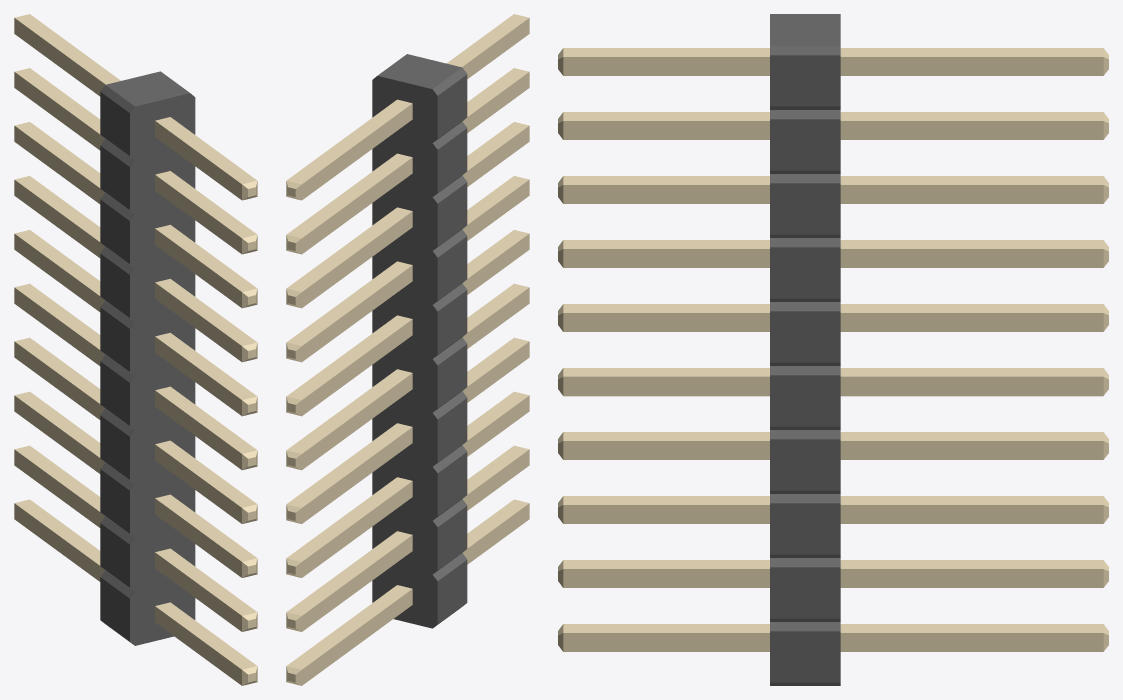
File: PinHeader_1x10_P1.00mm_Vertical.glb
3 views of the same model, side by side, from view 1: azimuth 30°, elevation 25°; view 2: azimuth 150°, elevation 25°; view 3: azimuth 270°, elevation 25° (orthographic). The views are drawn at different scales.
Visible parts, largest first — view 1: Shape_IndexedFaceSet.003, Shape_IndexedFaceSet.001, Shape_IndexedFaceSet.104, Shape_IndexedFaceSet.133, Shape_IndexedFaceSet.120, Shape_IndexedFaceSet.124, Shape_IndexedFaceSet.129, Shape_IndexedFaceSet.137, Shape_IndexedFaceSet.112, Shape_IndexedFaceSet.116, Shape_IndexedFaceSet.140, Shape_IndexedFaceSet.108 (+40 smaller); view 2: Shape_IndexedFaceSet.004, Shape_IndexedFaceSet.104, Shape_IndexedFaceSet.108, Shape_IndexedFaceSet.116, Shape_IndexedFaceSet.129, Shape_IndexedFaceSet.137, Shape_IndexedFaceSet.140, Shape_IndexedFaceSet.112, Shape_IndexedFaceSet.120, Shape_IndexedFaceSet.124, Shape_IndexedFaceSet.133, Shape_IndexedFaceSet.125 (+40 smaller); view 3: Shape_IndexedFaceSet.106, Shape_IndexedFaceSet.110, Shape_IndexedFaceSet.114, Shape_IndexedFaceSet.118, Shape_IndexedFaceSet.122, Shape_IndexedFaceSet.126, Shape_IndexedFaceSet.131, Shape_IndexedFaceSet.135, Shape_IndexedFaceSet.139, Shape_IndexedFaceSet.142, Shape_IndexedFaceSet.066, Shape_IndexedFaceSet.070 (+39 smaller).
Boxes of the visible parts, x1,y1,x2,y2 form: Shape_IndexedFaceSet.003: (130, 93, 195, 645); Shape_IndexedFaceSet.001: (105, 71, 189, 106); Shape_IndexedFaceSet.104: (14, 287, 105, 365); Shape_IndexedFaceSet.133: (14, 18, 105, 96); Shape_IndexedFaceSet.120: (14, 341, 104, 419); Shape_IndexedFaceSet.124: (14, 503, 104, 581); Shape_IndexedFaceSet.129: (14, 449, 104, 527); Shape_IndexedFaceSet.137: (14, 126, 104, 204); Shape_IndexedFaceSet.112: (14, 180, 105, 257); Shape_IndexedFaceSet.116: (14, 395, 104, 473); Shape_IndexedFaceSet.140: (14, 72, 104, 150); Shape_IndexedFaceSet.108: (14, 234, 105, 311); Shape_IndexedFaceSet.004: (372, 76, 437, 628); Shape_IndexedFaceSet.104: (302, 373, 412, 469); Shape_IndexedFaceSet.108: (302, 319, 412, 415); Shape_IndexedFaceSet.116: (302, 481, 412, 577); Shape_IndexedFaceSet.129: (302, 535, 412, 631); Shape_IndexedFaceSet.137: (302, 211, 412, 307); Shape_IndexedFaceSet.140: (302, 157, 412, 253); Shape_IndexedFaceSet.112: (302, 265, 412, 361); Shape_IndexedFaceSet.120: (302, 427, 412, 523); Shape_IndexedFaceSet.124: (302, 589, 412, 685); Shape_IndexedFaceSet.133: (302, 103, 412, 199); Shape_IndexedFaceSet.125: (287, 585, 412, 669); Shape_IndexedFaceSet.106: (840, 376, 1103, 396); Shape_IndexedFaceSet.110: (840, 313, 1103, 331); Shape_IndexedFaceSet.114: (840, 249, 1103, 267); Shape_IndexedFaceSet.118: (840, 505, 1103, 523); Shape_IndexedFaceSet.122: (840, 441, 1103, 459); Shape_IndexedFaceSet.126: (840, 633, 1103, 651); Shape_IndexedFaceSet.131: (840, 569, 1103, 587); Shape_IndexedFaceSet.135: (840, 57, 1103, 75); Shape_IndexedFaceSet.139: (840, 185, 1103, 203); Shape_IndexedFaceSet.142: (840, 121, 1103, 139); Shape_IndexedFaceSet.066: (563, 376, 769, 396); Shape_IndexedFaceSet.070: (563, 313, 769, 331).
Bounding box in the file's own units: 0.5 × 3.94 × 3.07.
